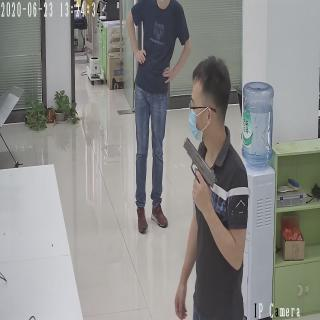gun: (182, 135, 218, 203)
